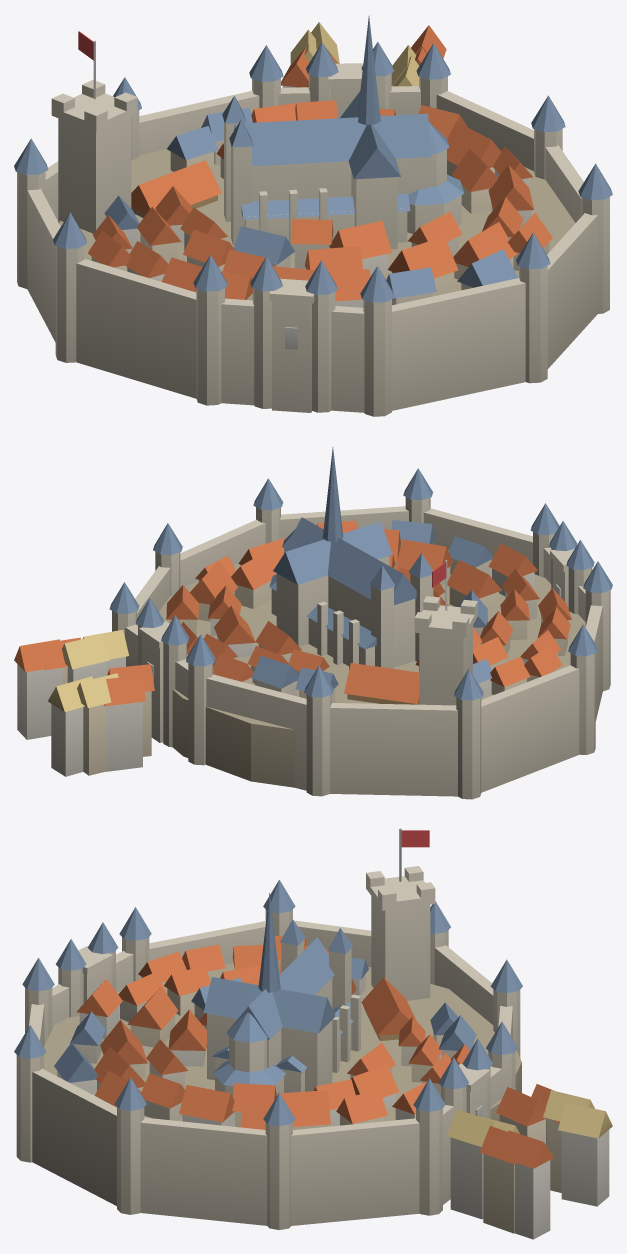
The model's file is city_west_b.glb.
3 renders of one model, top to bottom at view 1: azimuth 30°, elevation 25°; view 2: azimuth 150°, elevation 25°; view 3: azimuth 270°, elevation 25°, orthographic. The views are drawn at different scales.
Parts seen in each view (by area): view 1: city_west_b; view 2: city_west_b; view 3: city_west_b.
Boxes of the visible parts, x1,y1,x2,y2 form: city_west_b: [14, 15, 612, 416]; city_west_b: [14, 447, 612, 799]; city_west_b: [14, 828, 612, 1239].
Size of the model in its own units: 3.09 by 1.53 by 3.31.
